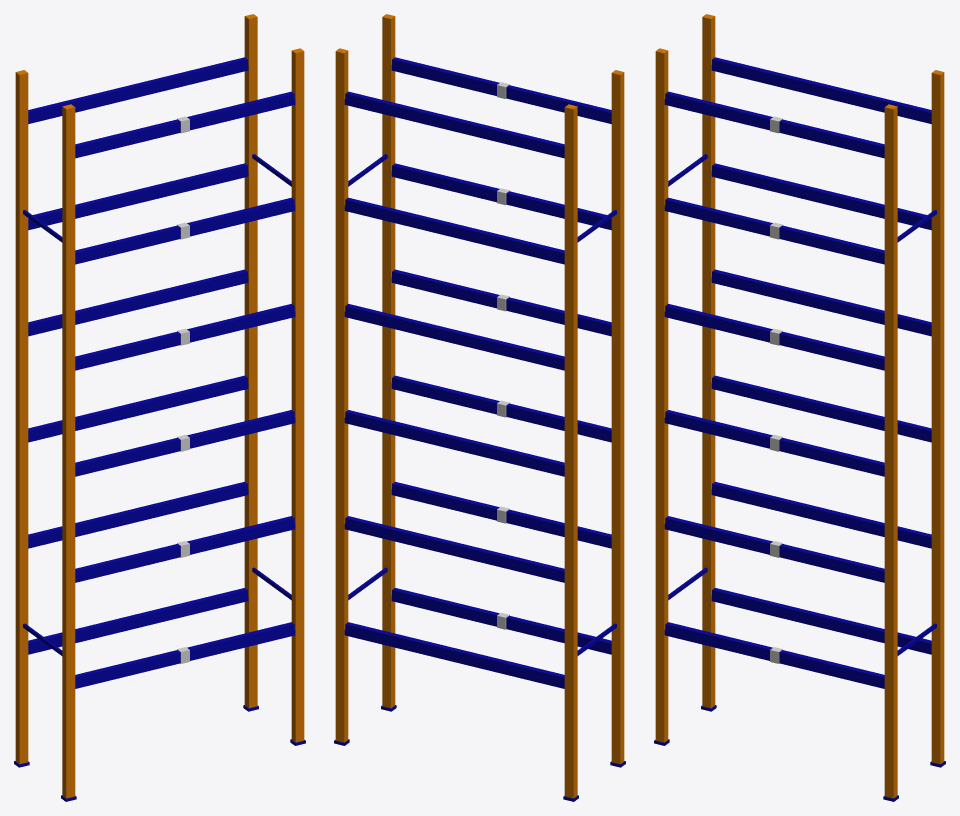
Rendered from high-duty-C27-6.glb.
3 renders of one model, left to right at view 1: azimuth 30°, elevation 25°; view 2: azimuth 150°, elevation 25°; view 3: azimuth 330°, elevation 25°, orthographic.
Visible parts, largest first — view 1: part_0, part_4, part_2, part_6, part_35, part_23, part_28, part_13, part_33, part_8, part_18, part_20 (+16 smaller); view 2: part_4, part_0, part_6, part_2, part_25, part_30, part_35, part_10, part_15, part_20, part_33, part_18 (+16 smaller); view 3: part_2, part_6, part_0, part_4, part_35, part_23, part_28, part_13, part_33, part_8, part_18, part_20 (+16 smaller).
Part boxes in pixels (<box>): part_0: <box>62,104,75,798</box>; part_4: <box>15,70,28,764</box>; part_2: <box>291,48,304,742</box>; part_6: <box>244,14,257,708</box>; part_35: <box>28,57,247,118</box>; part_23: <box>75,304,294,364</box>; part_28: <box>75,197,294,258</box>; part_13: <box>75,516,294,576</box>; part_33: <box>75,91,294,152</box>; part_8: <box>75,622,294,683</box>; part_18: <box>75,410,294,470</box>; part_20: <box>28,375,247,436</box>; part_4: <box>564,104,577,798</box>; part_0: <box>611,70,624,764</box>; part_6: <box>335,48,348,742</box>; part_2: <box>382,14,395,708</box>; part_25: <box>345,304,564,364</box>; part_30: <box>345,197,564,258</box>; part_35: <box>345,91,564,152</box>; part_10: <box>345,622,564,683</box>; part_15: <box>345,516,564,576</box>; part_20: <box>345,410,564,470</box>; part_33: <box>392,57,611,118</box>; part_18: <box>392,375,611,436</box>; part_2: <box>884,104,897,798</box>; part_6: <box>931,70,944,764</box>; part_0: <box>655,48,668,742</box>; part_4: <box>702,14,715,708</box>; part_35: <box>712,57,931,118</box>; part_23: <box>665,304,884,364</box>; part_28: <box>665,197,884,258</box>; part_13: <box>665,516,884,576</box>; part_33: <box>665,91,884,152</box>; part_8: <box>665,622,884,683</box>; part_18: <box>665,410,884,470</box>; part_20: <box>712,375,931,436</box>.
Bounding box in the file's own units: 2720 × 7500 × 1020.
